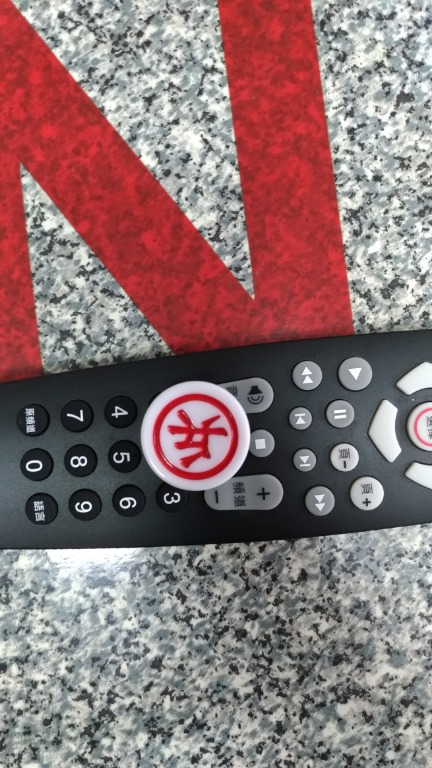r-pawn: (134, 382, 253, 495)
